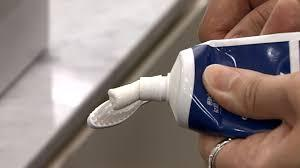toothpaste: (135, 35, 300, 134)
